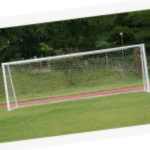goals: (1, 43, 150, 109)
